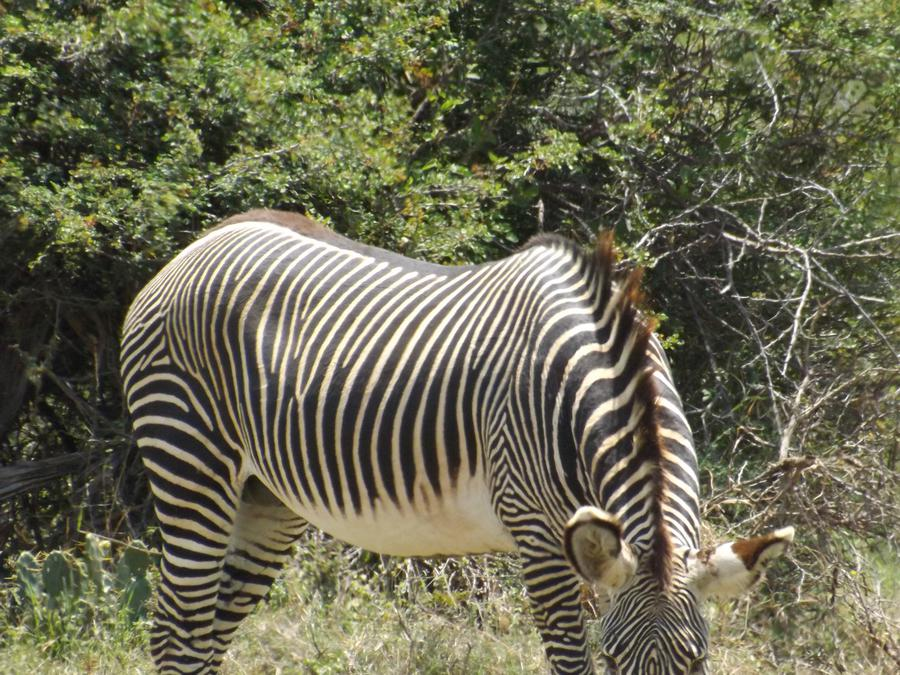zebra_grevys: (107, 183, 563, 531)
